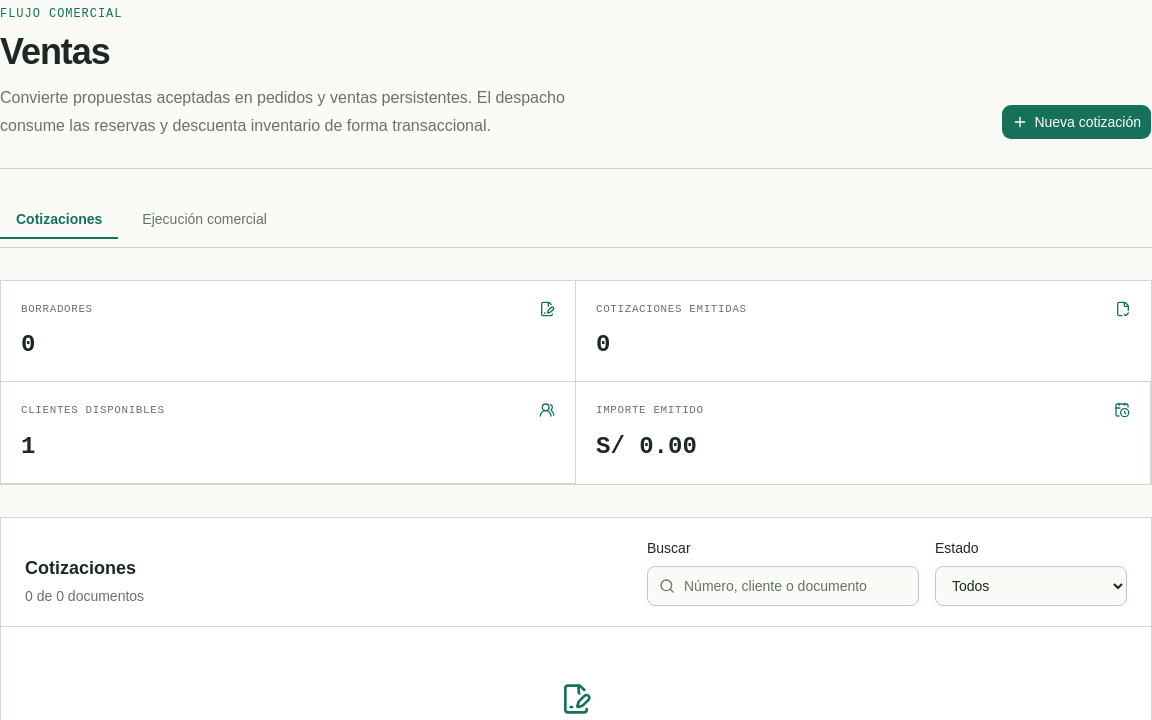
VentasPage › separa cotizaciones y ejecución comercial sin salir del módulo Ventas
Click the tab "Ejecución comercial" at (205, 219), box [142, 211, 267, 227]
(page scrolled)
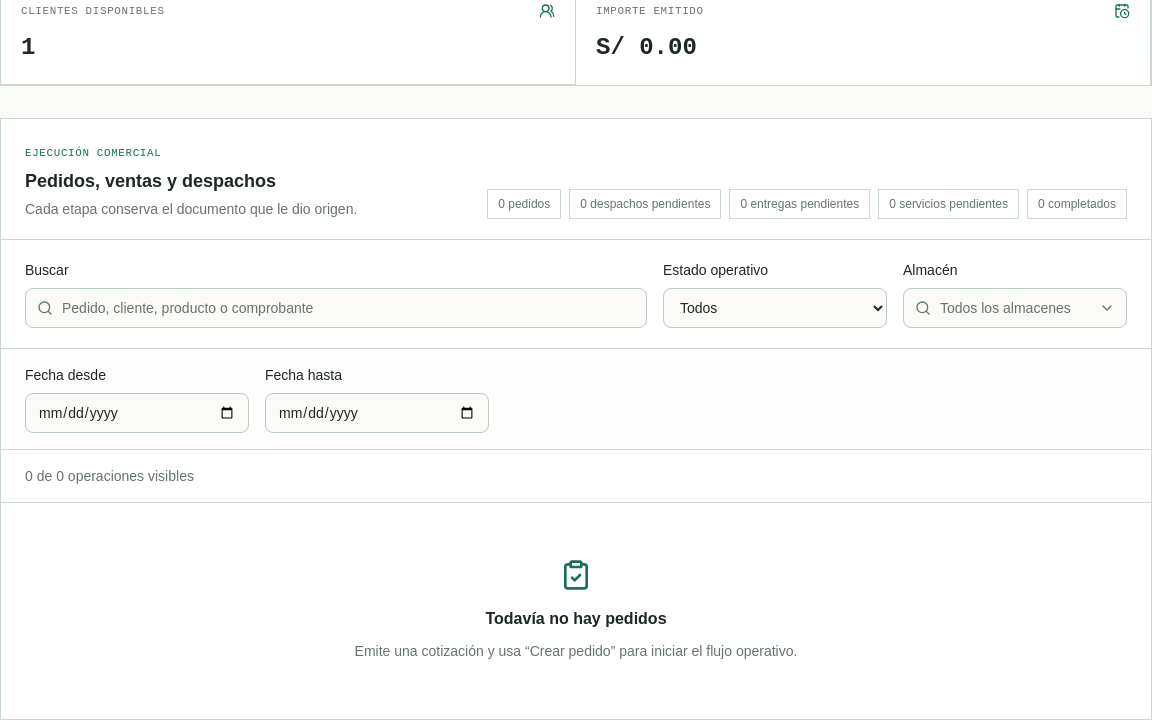
Now the heading "Pedidos, ventas y despachos" is shown, box [25, 171, 276, 191]
Now the dropdown labelled "Estado operativo" is shown, box [663, 288, 887, 328]
Now the heading "Todavía no hay pedidos" is shown, box [486, 610, 667, 627]
